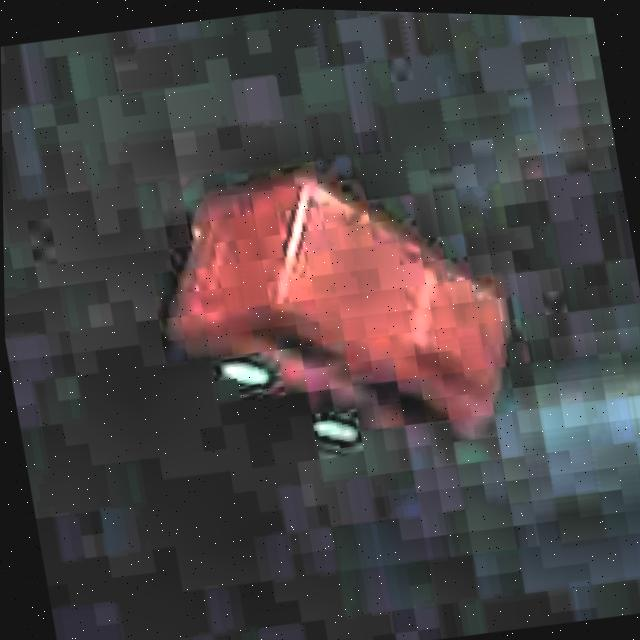bus: (138, 120, 542, 488)
